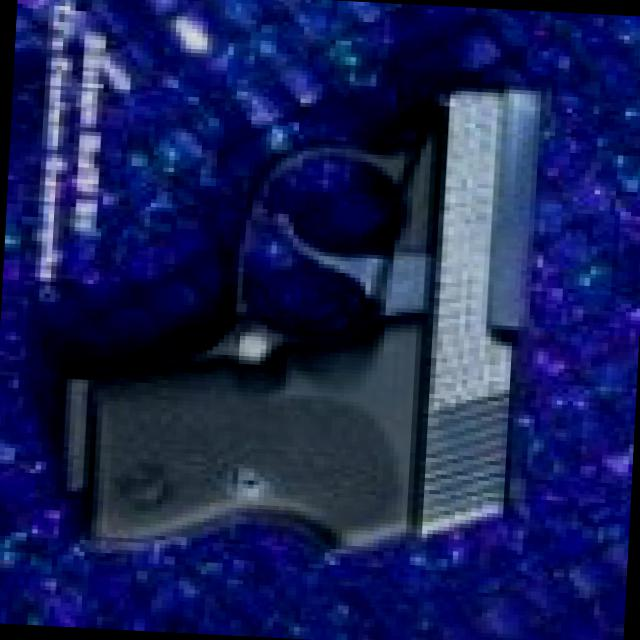handgun: (63, 51, 562, 572)
